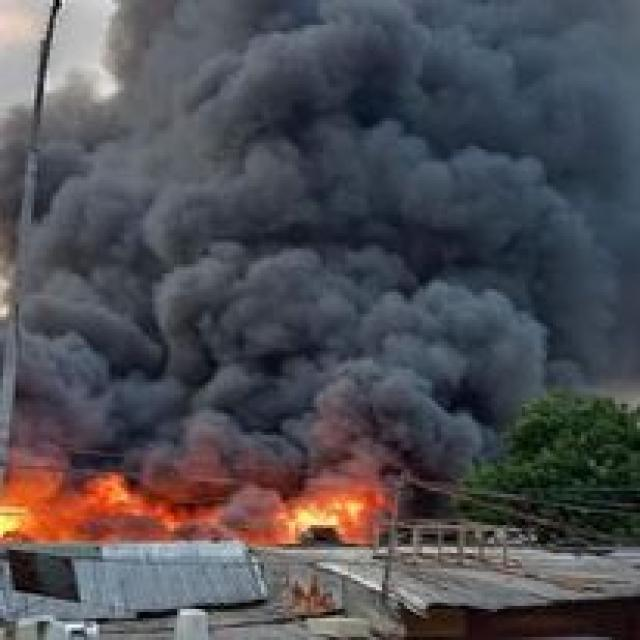Fire: (0, 456, 417, 567)
Smoke: (0, 0, 640, 460)
